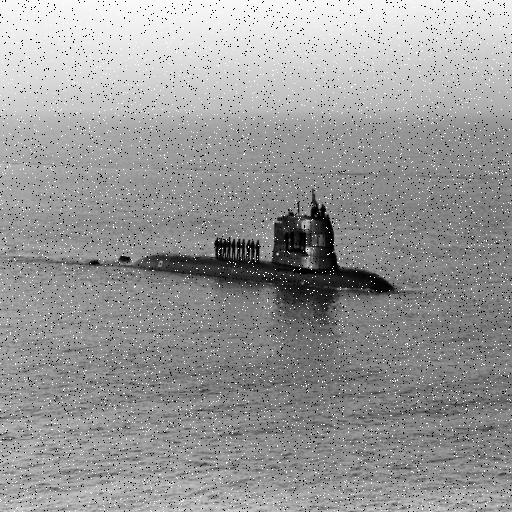submarine: (132, 187, 408, 295)
